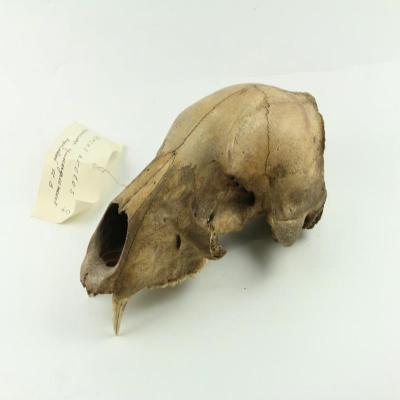natural_science_collection: (80, 83, 328, 336)
